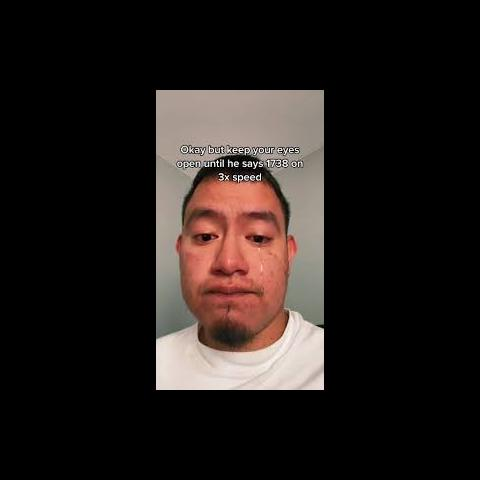opened: (178, 208, 284, 258)
